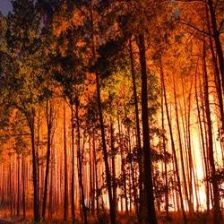fire: (162, 107, 224, 208), (106, 193, 134, 208)
